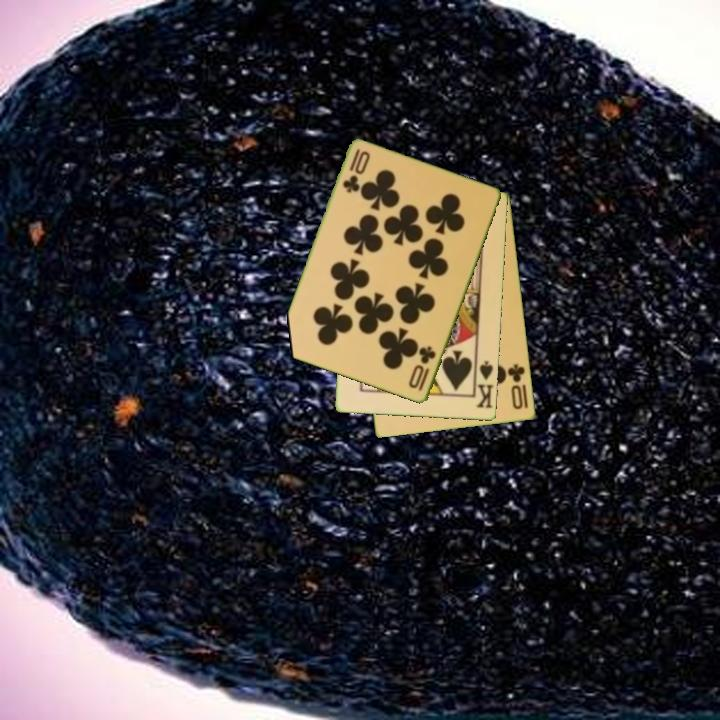10c: (405, 343, 439, 395), (504, 361, 528, 413), (339, 146, 363, 196)
Ks: (473, 358, 496, 411)
